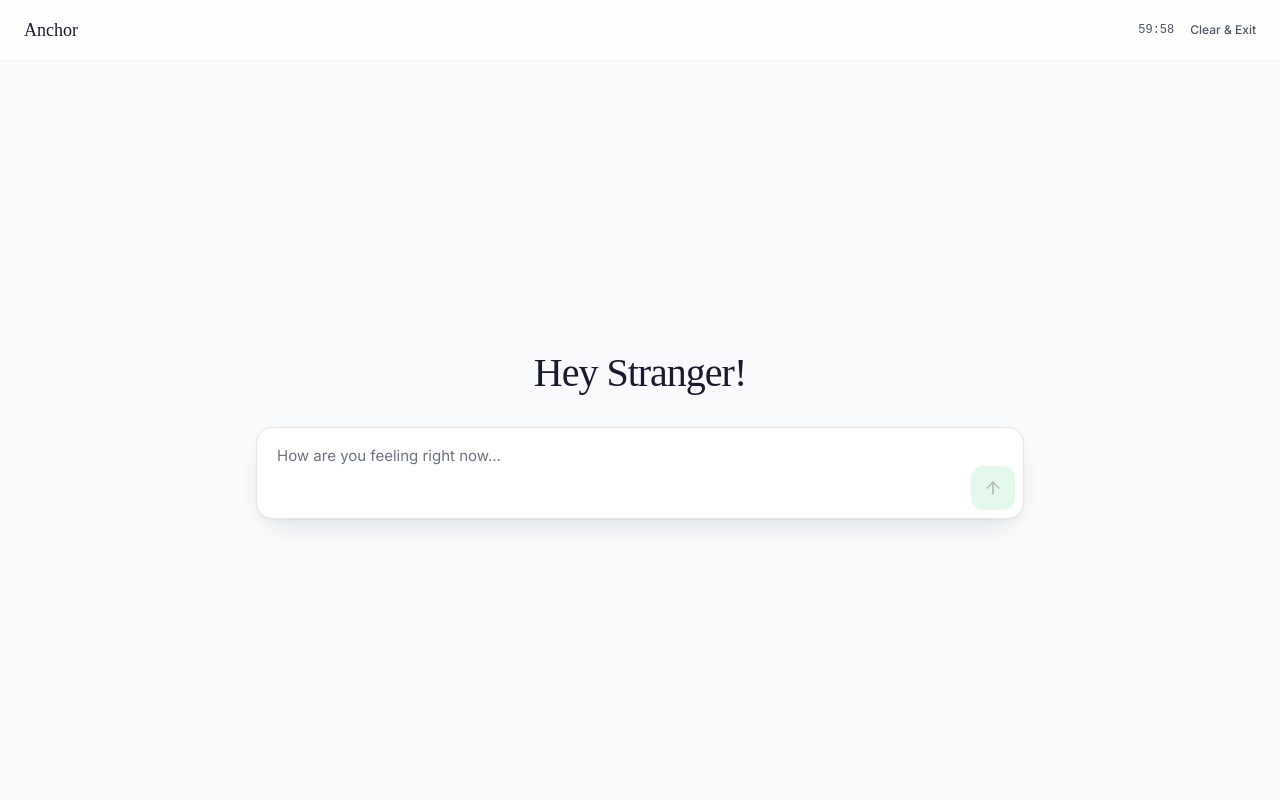
Chat – Crisis card signalling › keeps an ordinary reply free of the card
This screenshot has width=1280, height=800.
Type "hello" into the text box with placeholder "How are you feeling right now..." at (614, 472), box [265,436,963,510]
Then press Enter
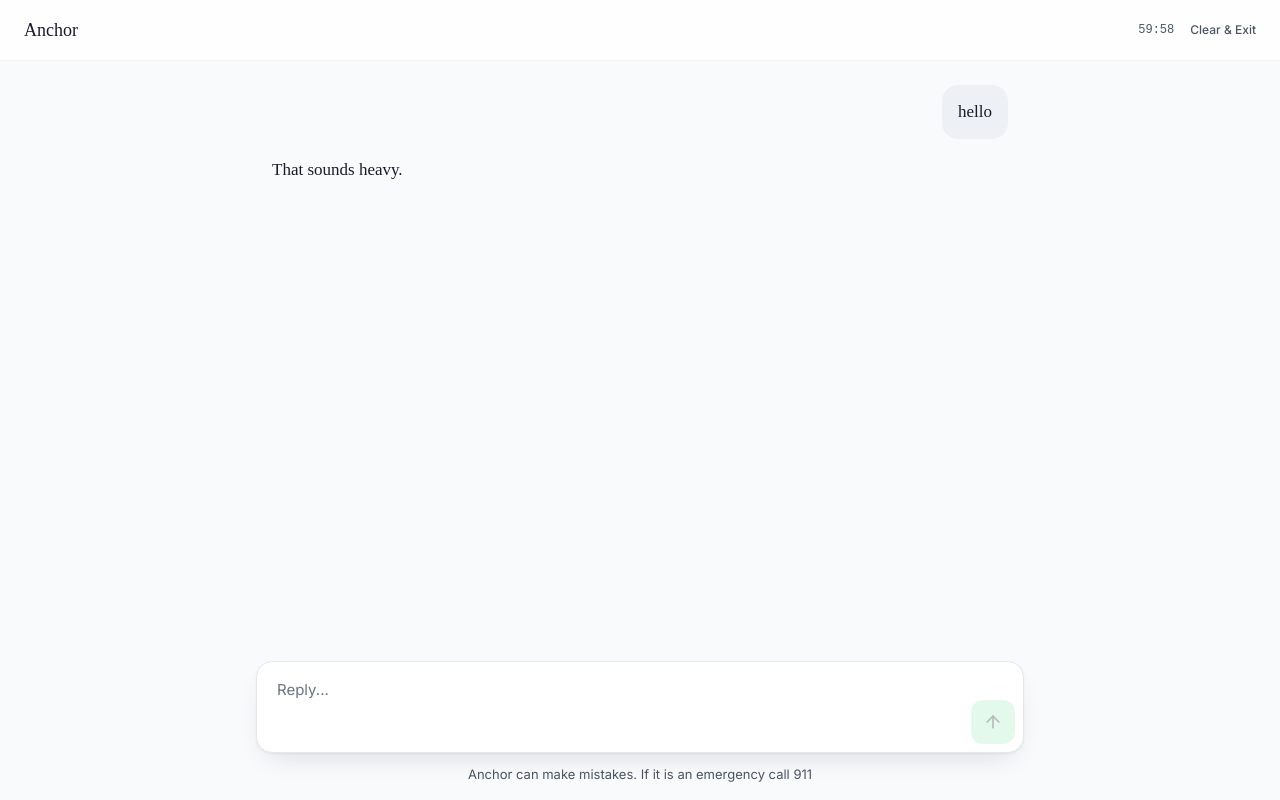
Result: the text "That sounds heavy." is shown at [272,160,403,179]
